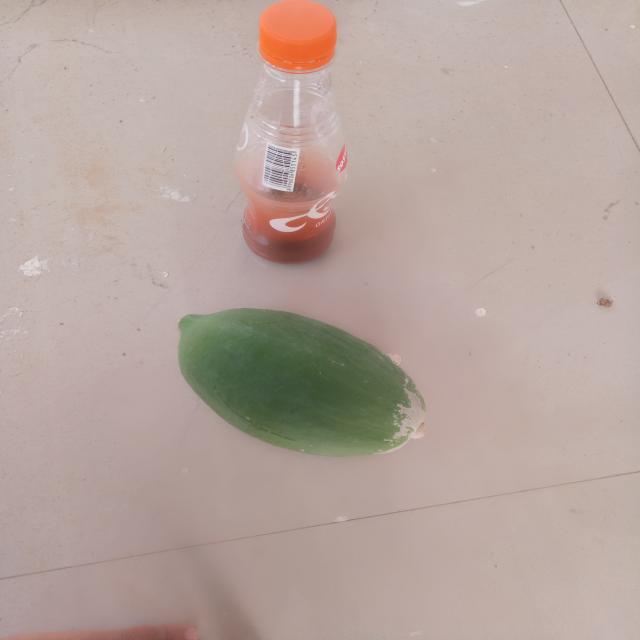Pepaya unrippen: (164, 305, 436, 463)
